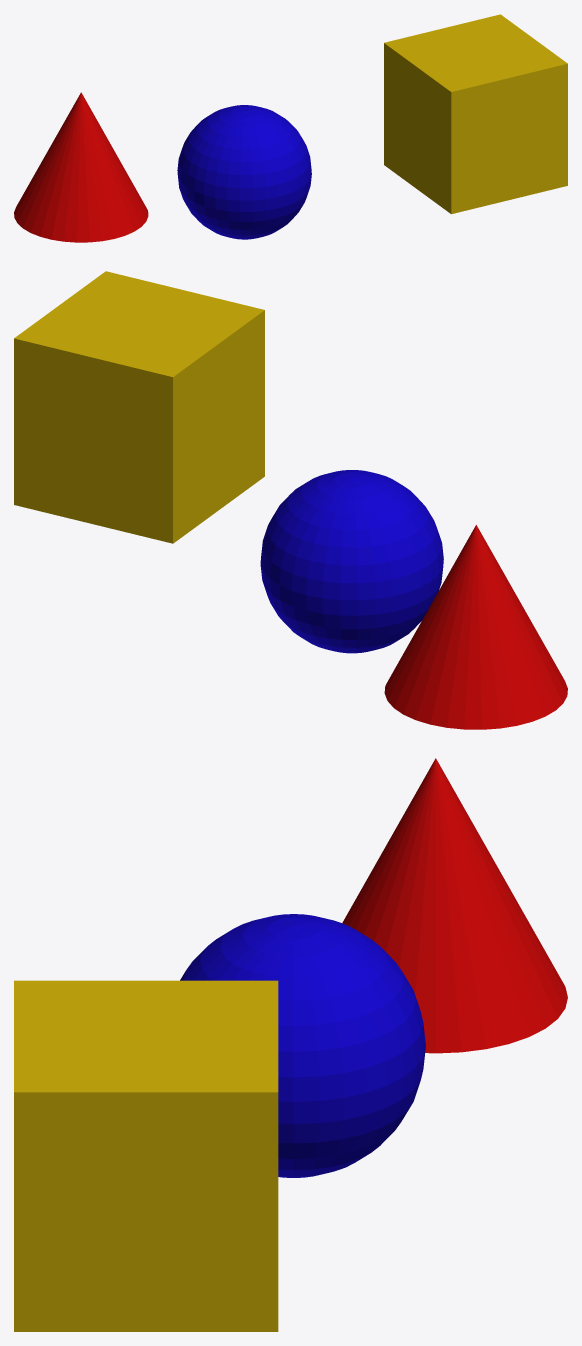
File: example.obj
3 renders of one model, top to bottom at view 1: azimuth 30°, elevation 25°; view 2: azimuth 150°, elevation 25°; view 3: azimuth 270°, elevation 25°, orthographic. The views are drawn at different scales.
Visible parts, largest first — view 1: Cube, Sphère, Cône; view 2: Cube, Sphère, Cône; view 3: Cube, Sphère, Cône.
Boxes of the visible parts, x1,y1,x2,y2 form: Cube: (384,14,567,214); Sphère: (177,105,311,239); Cône: (14,92,148,242); Cube: (14,271,264,543); Sphère: (260,470,443,653); Cône: (384,525,567,729); Cube: (14,980,278,1331); Sphère: (180,914,425,1177); Cône: (342,758,567,1053).
Bounding box in the file's own units: 7.5 × 2.63 × 4.19.
